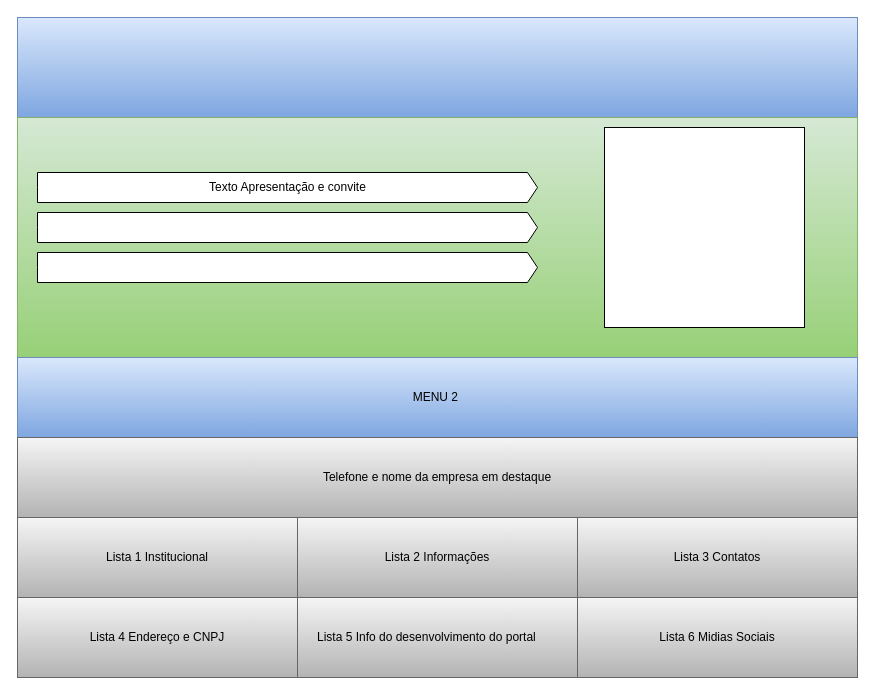
The diagram is 875 pixels wide and 695 high, and some of its shapes have lost their labels. The shapes that lost their labels are listed below. From the top down, each one's centre as x and y in pixels, then its label:
point 437,67: Header com a Marca (ou nome) + Menu Principal
point 704,227: Imagem
